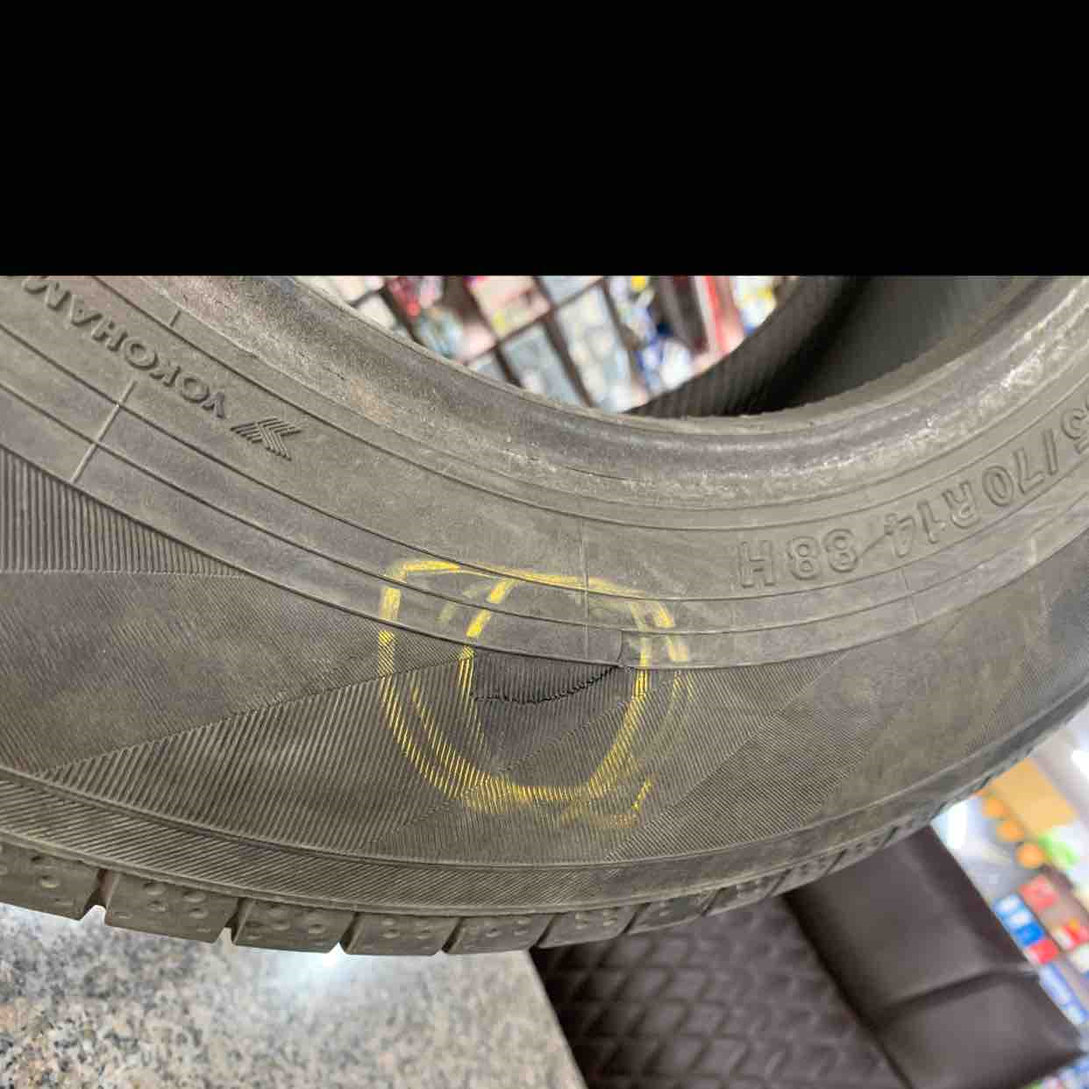cut: (470, 624, 632, 711)
